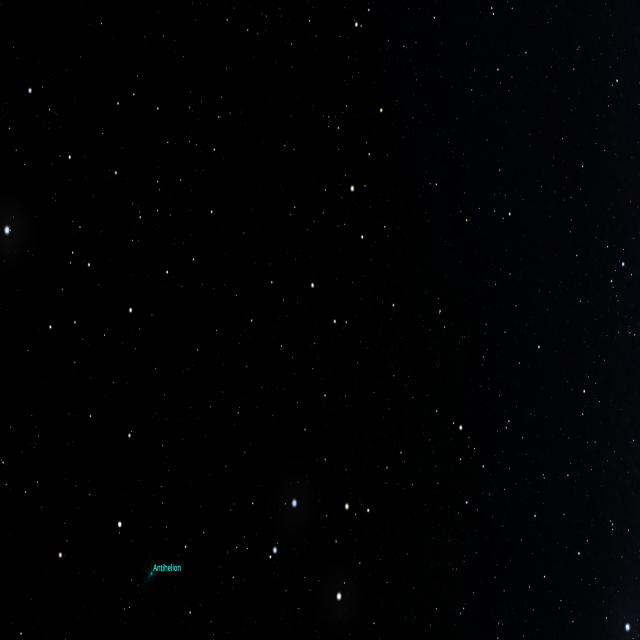Crater: (248, 231, 396, 442)
